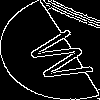W: (24, 25, 100, 87)
